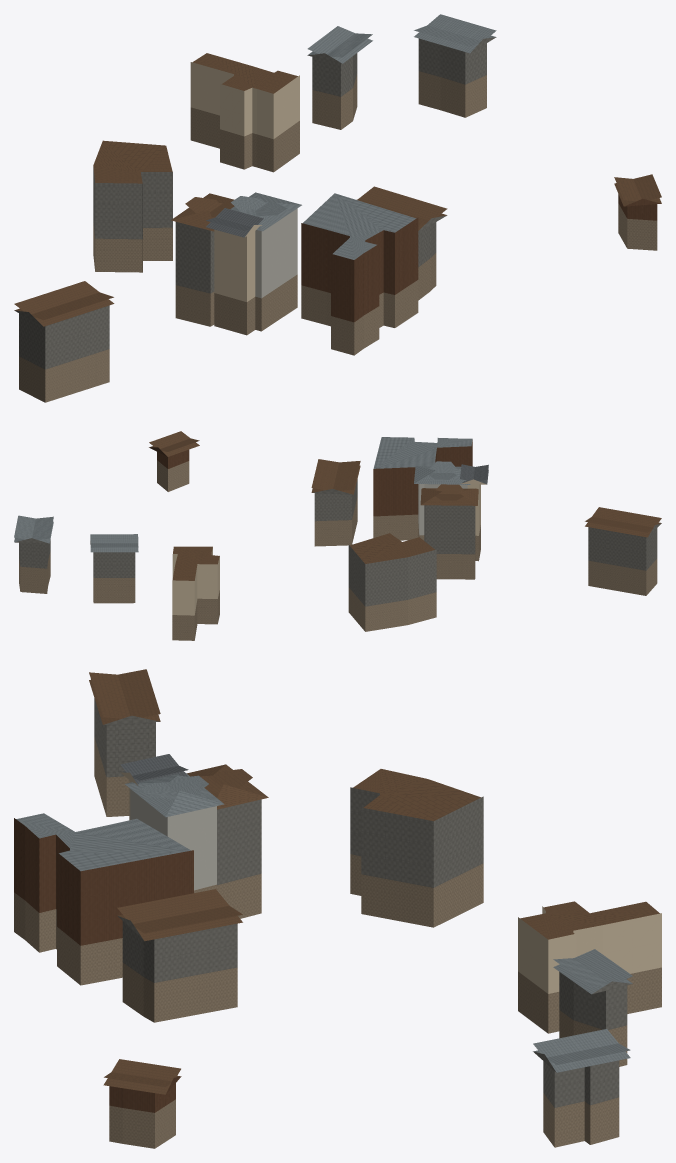
File: bld_c33_46_240.gltf
The picture shows the model from 3 angles, top to bottom: view 1: azimuth 30°, elevation 25°; view 2: azimuth 150°, elevation 25°; view 3: azimuth 270°, elevation 25°; orthographic projection. The views are drawn at different scales.
Parts seen in each view (by area): view 1: bld_c33_46_240; view 2: bld_c33_46_240; view 3: bld_c33_46_240.
Boxes of the visible parts, x1,y1,x2,y2 form: bld_c33_46_240: [14, 14, 661, 402]; bld_c33_46_240: [14, 431, 661, 640]; bld_c33_46_240: [14, 669, 661, 1148].
Bounding box in the file's own units: 105 × 17.8 × 75.45.
11 materials, 11 textured.
